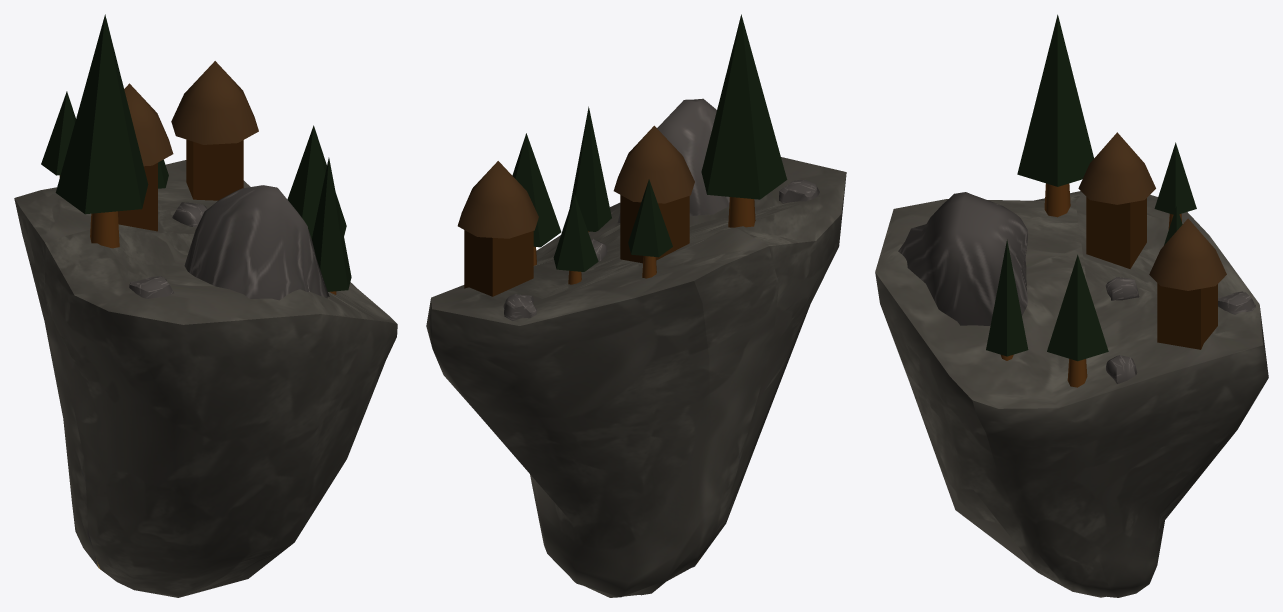
The model's file is illa1-1.fbx.
The picture shows the model from 3 angles, left to right: view 1: azimuth 30°, elevation 25°; view 2: azimuth 150°, elevation 25°; view 3: azimuth 270°, elevation 25°; orthographic projection. The views are drawn at different scales.
Visible parts, largest first — view 1: pCube55; view 2: pCube55; view 3: pCube55.
Part boxes in pixels (left/top/right/bottom): pCube55: left=14, top=14, right=397, bottom=597; pCube55: left=426, top=14, right=846, bottom=597; pCube55: left=875, top=14, right=1268, bottom=597.
Size of the model in its own units: 8.07 by 15.31 by 10.29.
1 material, 1 textured.
